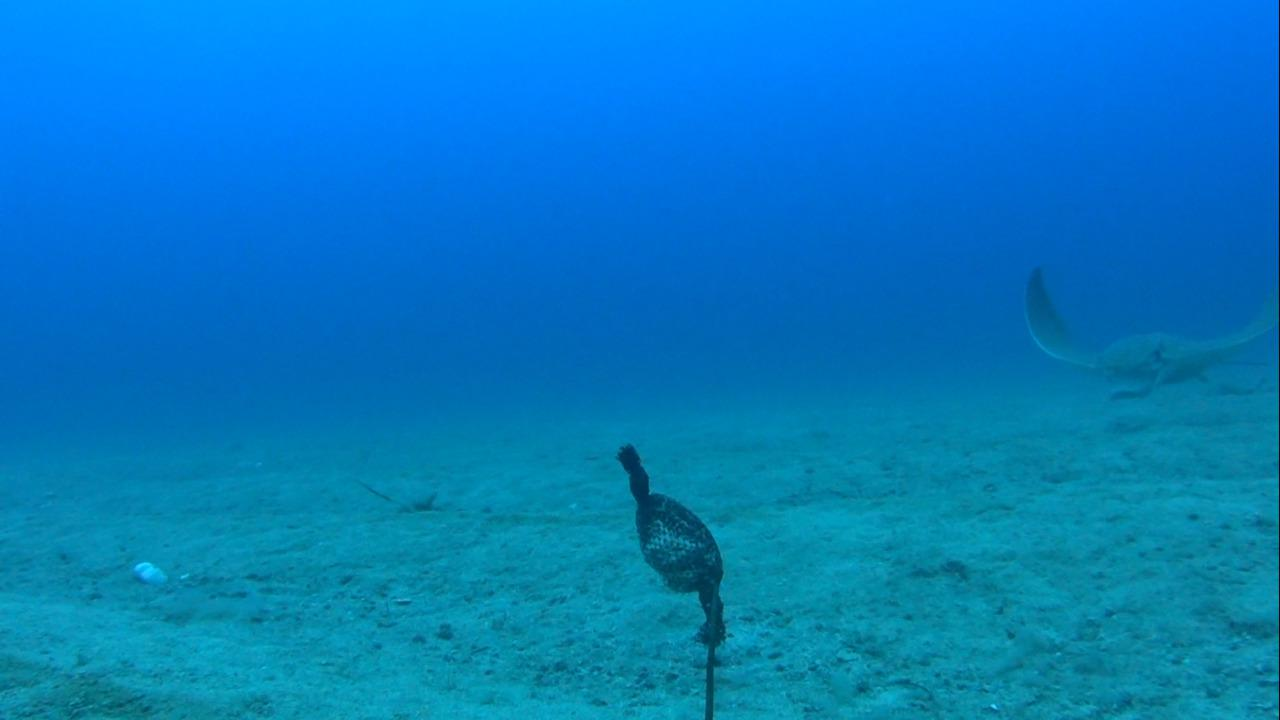myliobatis: (1011, 258, 1279, 409)
